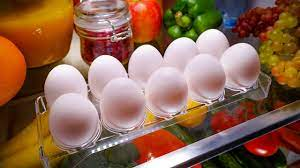eggs: (50, 91, 101, 137), (35, 62, 90, 100), (223, 48, 270, 91), (149, 65, 191, 107), (103, 79, 145, 119), (188, 53, 225, 95), (82, 51, 125, 84), (126, 39, 160, 79), (165, 36, 202, 70), (201, 26, 233, 55)
